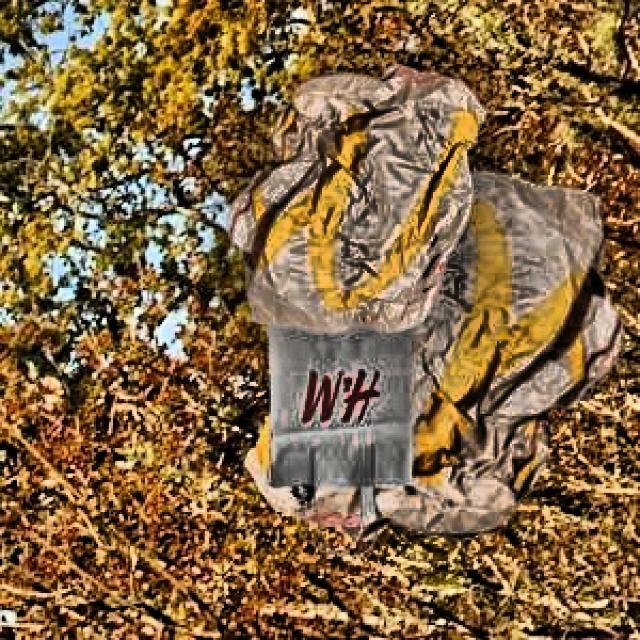Paper-bag: (239, 162, 631, 556), (218, 53, 497, 340), (234, 237, 432, 517)
